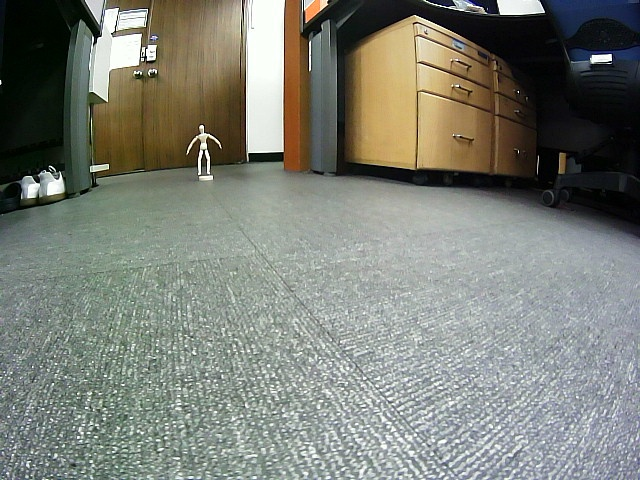person: (186, 124, 222, 177)
